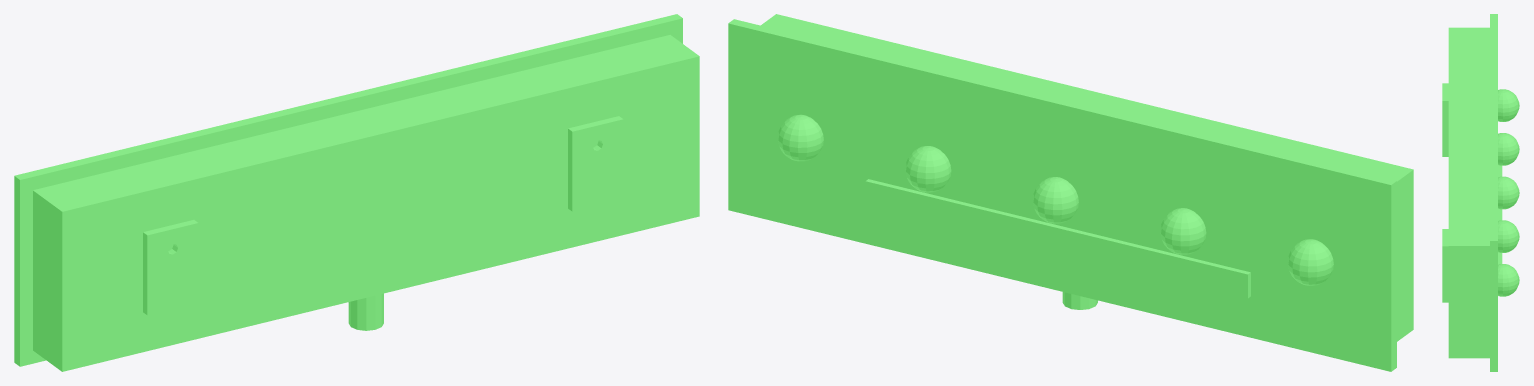
Rendered from VIncinerator_StatusArray.glb.
3 views of the same model, side by side, from view 1: azimuth 30°, elevation 25°; view 2: azimuth 150°, elevation 25°; view 3: azimuth 270°, elevation 25° (orthographic). The views are drawn at different scales.
Visible parts, largest first — view 1: VIncinerator_StatusArray; view 2: VIncinerator_StatusArray; view 3: VIncinerator_StatusArray.
Part boxes in pixels (bbox=[...]): VIncinerator_StatusArray: bbox=[14, 14, 699, 371]; VIncinerator_StatusArray: bbox=[728, 14, 1413, 371]; VIncinerator_StatusArray: bbox=[1442, 14, 1519, 371].
Bounding box in the file's own units: 0.26 × 0.08 × 0.0374.
